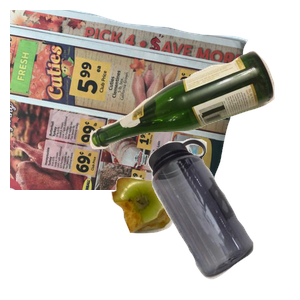glass: (87, 48, 300, 190)
paper: (10, 10, 250, 190)
plastic: (145, 136, 300, 300)
trash: (109, 175, 279, 300)
